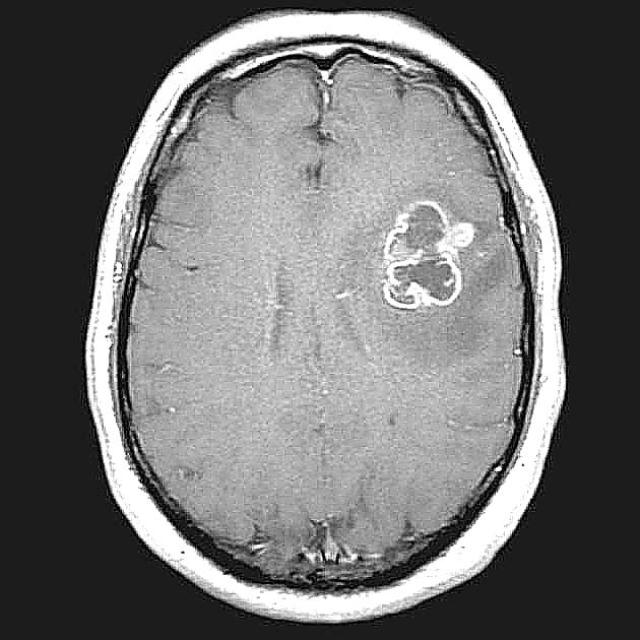Tumor-Cell: (374, 196, 480, 340)
